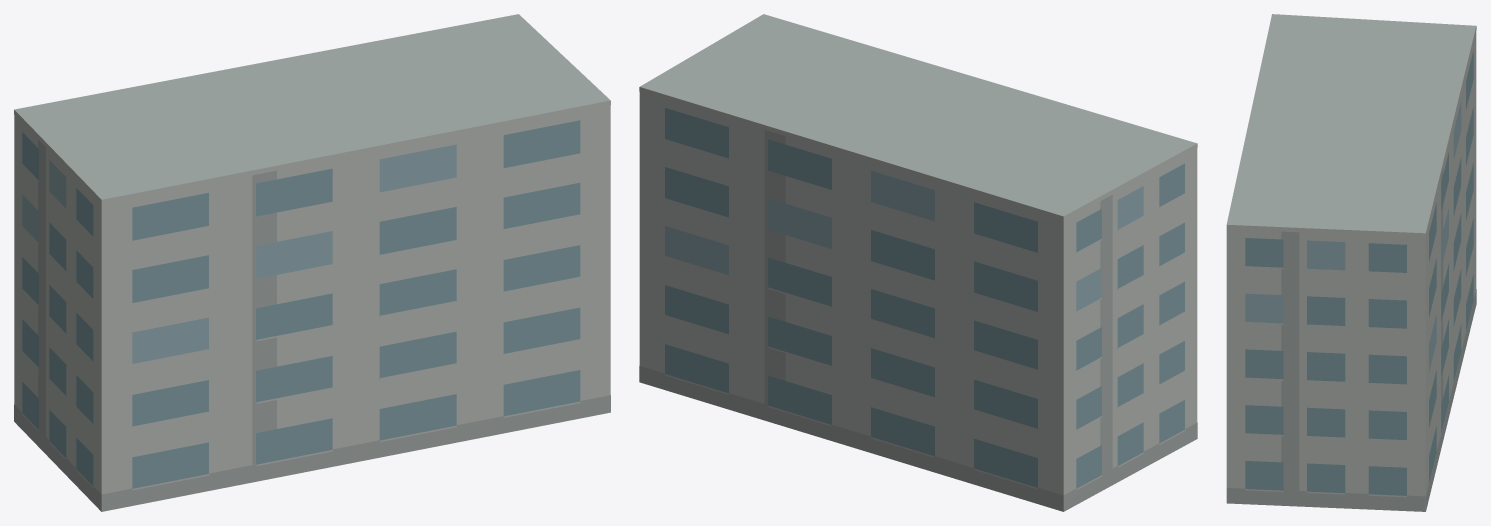
The model's file is survey-upis-33040754.glb.
3 views of the same model, side by side, from view 1: azimuth 30°, elevation 25°; view 2: azimuth 150°, elevation 25°; view 3: azimuth 270°, elevation 25° (orthographic). The views are drawn at different scales.
Visible parts, largest first — view 1: survey-upis-33040754.tmp; view 2: survey-upis-33040754.tmp; view 3: survey-upis-33040754.tmp.
Part boxes in pixels (<box>): survey-upis-33040754.tmp: <box>14,14,610,511</box>; survey-upis-33040754.tmp: <box>639,14,1197,511</box>; survey-upis-33040754.tmp: <box>1226,14,1476,511</box>.
Size of the model in its own units: 25.66 by 15.2 by 12.36.
